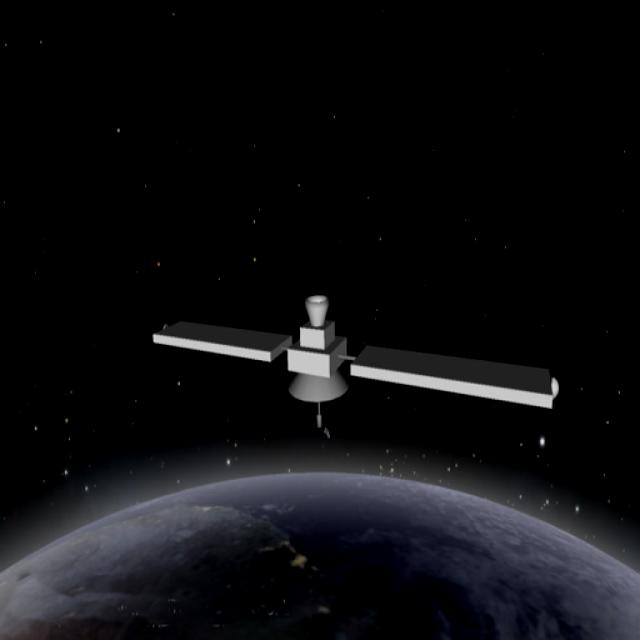medium_debris: (149, 292, 560, 436)
